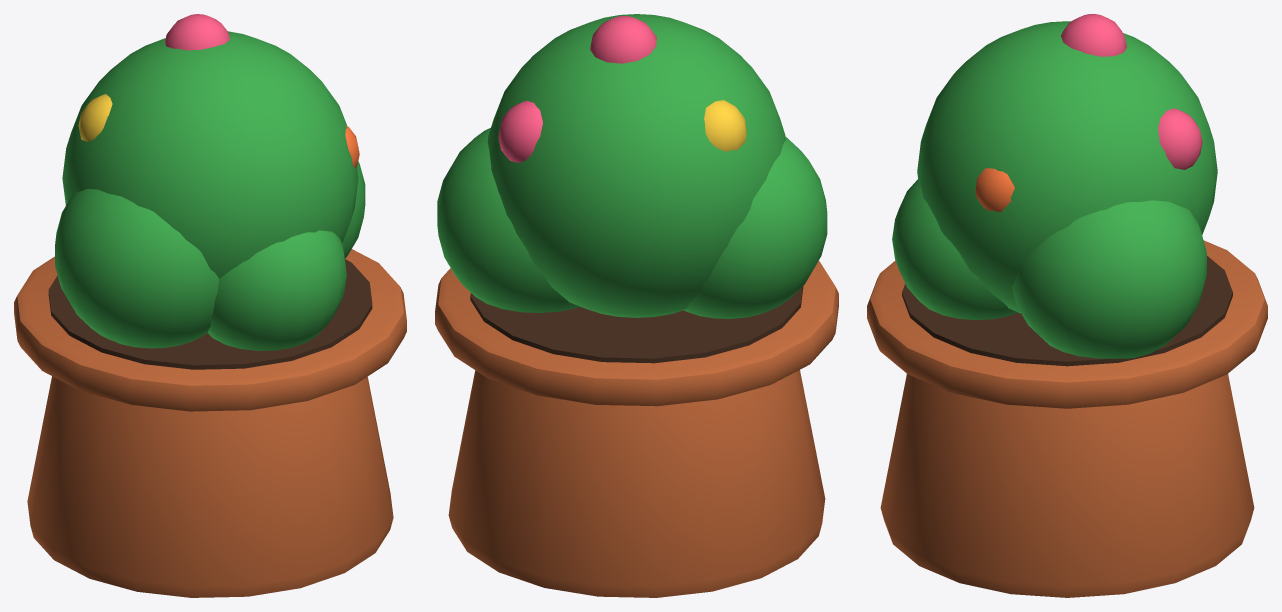
The model's file is ShipPlanter.glb.
3 views of the same model, side by side, from view 1: azimuth 30°, elevation 25°; view 2: azimuth 150°, elevation 25°; view 3: azimuth 270°, elevation 25° (orthographic). The views are drawn at different scales.
Visible parts, largest first — view 1: ShipPlanter; view 2: ShipPlanter; view 3: ShipPlanter.
Boxes of the visible parts, bbox=[...] form: ShipPlanter: bbox=[14, 14, 406, 597]; ShipPlanter: bbox=[435, 14, 838, 597]; ShipPlanter: bbox=[867, 14, 1267, 597].
Size of the model in its own units: 0.8 by 1.12 by 0.8.
